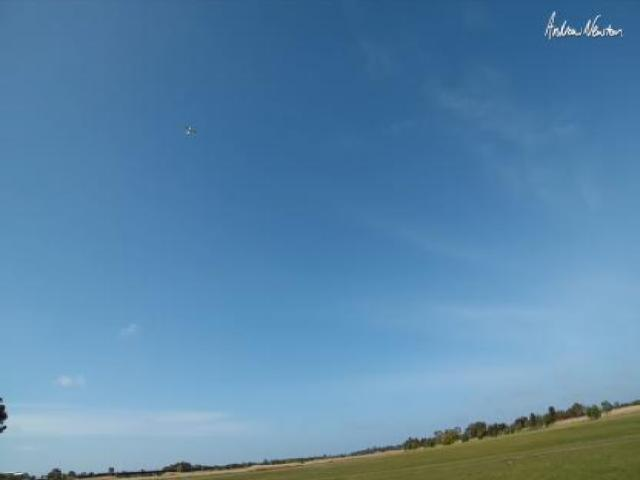uav: (180, 118, 200, 139)
